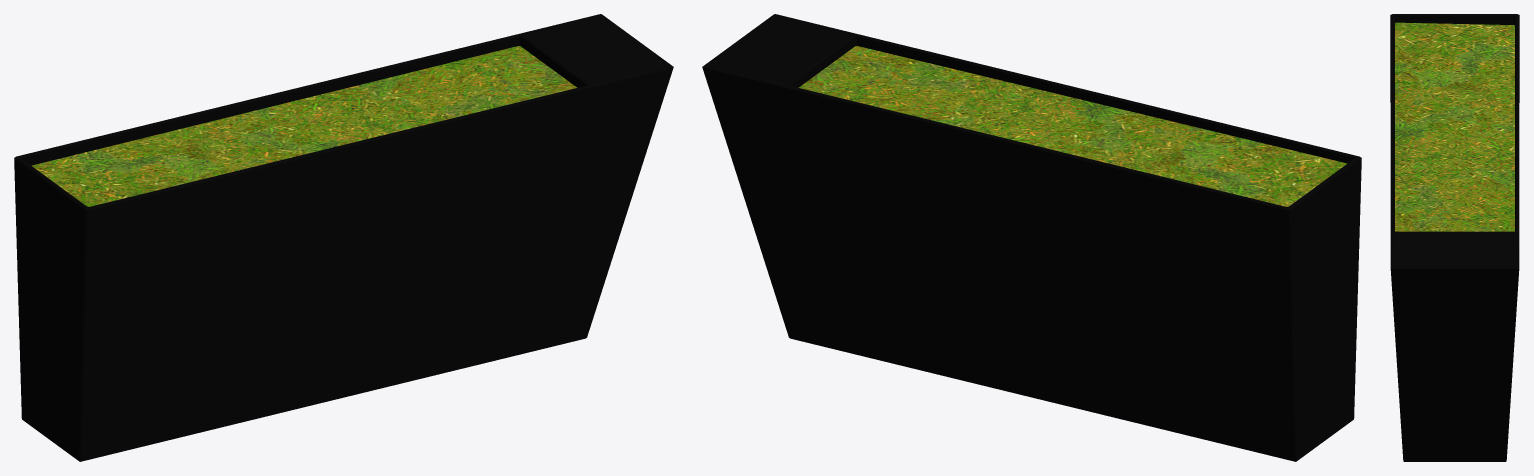
Rendered from W_O_Playground_Glassbed_003_L0.fbx.
3 renders of one model, left to right at view 1: azimuth 30°, elevation 25°; view 2: azimuth 150°, elevation 25°; view 3: azimuth 270°, elevation 25°, orthographic. The views are drawn at different scales.
Parts seen in each view (by area): view 1: W_O_Playground_Glassbed_003_L0; view 2: W_O_Playground_Glassbed_003_L0; view 3: W_O_Playground_Glassbed_003_L0.
Part boxes in pixels (x1,y1,x2,y2): W_O_Playground_Glassbed_003_L0: (14,14,673,461); W_O_Playground_Glassbed_003_L0: (702,14,1361,461); W_O_Playground_Glassbed_003_L0: (1390,14,1519,461).
Size of the model in its own units: 1.48 by 0.6209 by 0.3171.
